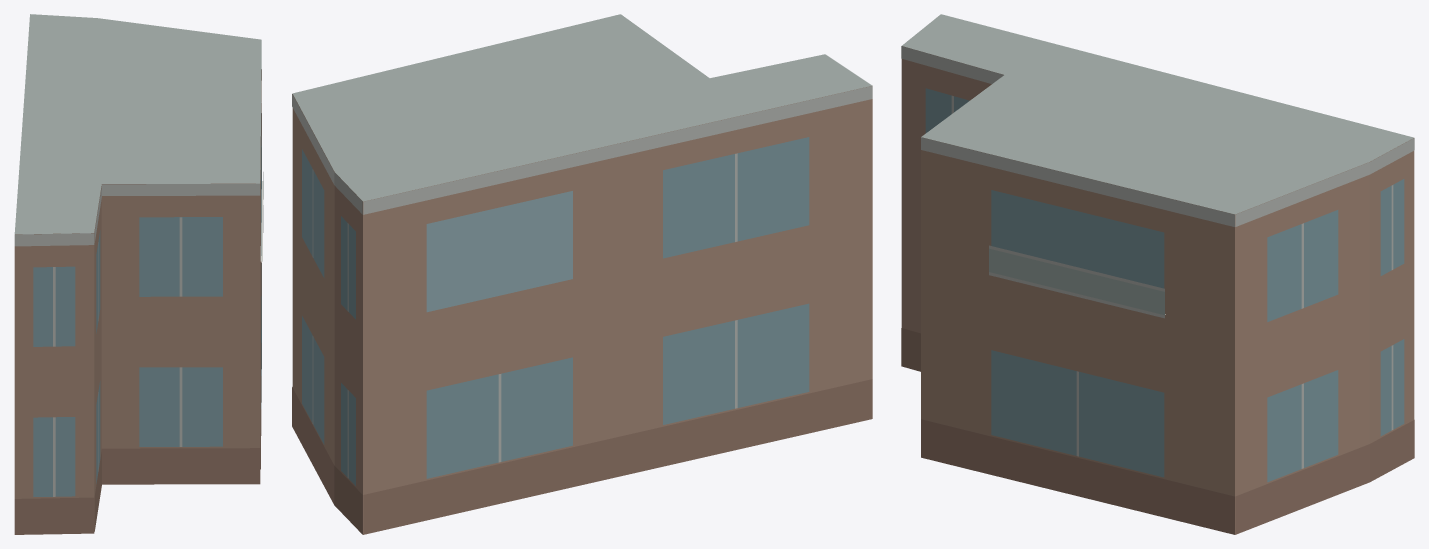
File: survey-upis-32725251.glb
3 views of the same model, side by side, from view 1: azimuth 30°, elevation 25°; view 2: azimuth 150°, elevation 25°; view 3: azimuth 270°, elevation 25° (orthographic). The views are drawn at different scales.
Visible parts, largest first — view 1: survey-upis-32725251.tmp; view 2: survey-upis-32725251.tmp; view 3: survey-upis-32725251.tmp.
Boxes of the visible parts, bbox=[...] form: survey-upis-32725251.tmp: bbox=[14, 14, 263, 534]; survey-upis-32725251.tmp: bbox=[292, 14, 872, 534]; survey-upis-32725251.tmp: bbox=[901, 14, 1414, 534].
Size of the model in its own units: 8.19 by 6.1 by 8.86.
